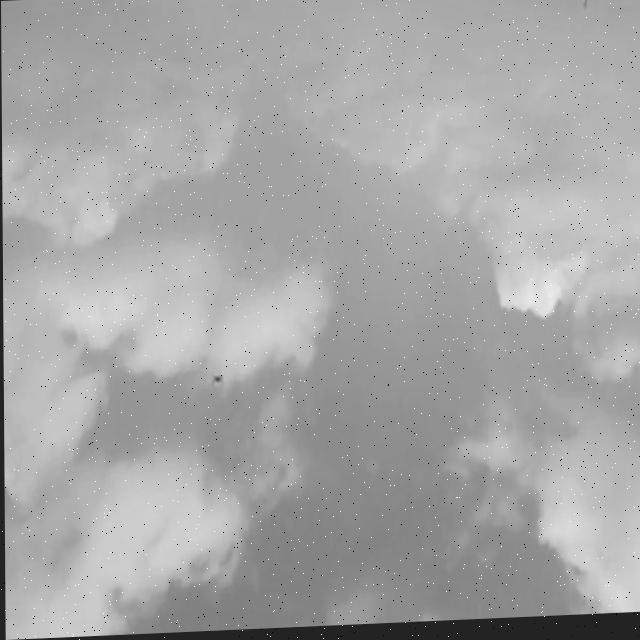drone: (209, 372, 224, 391)
